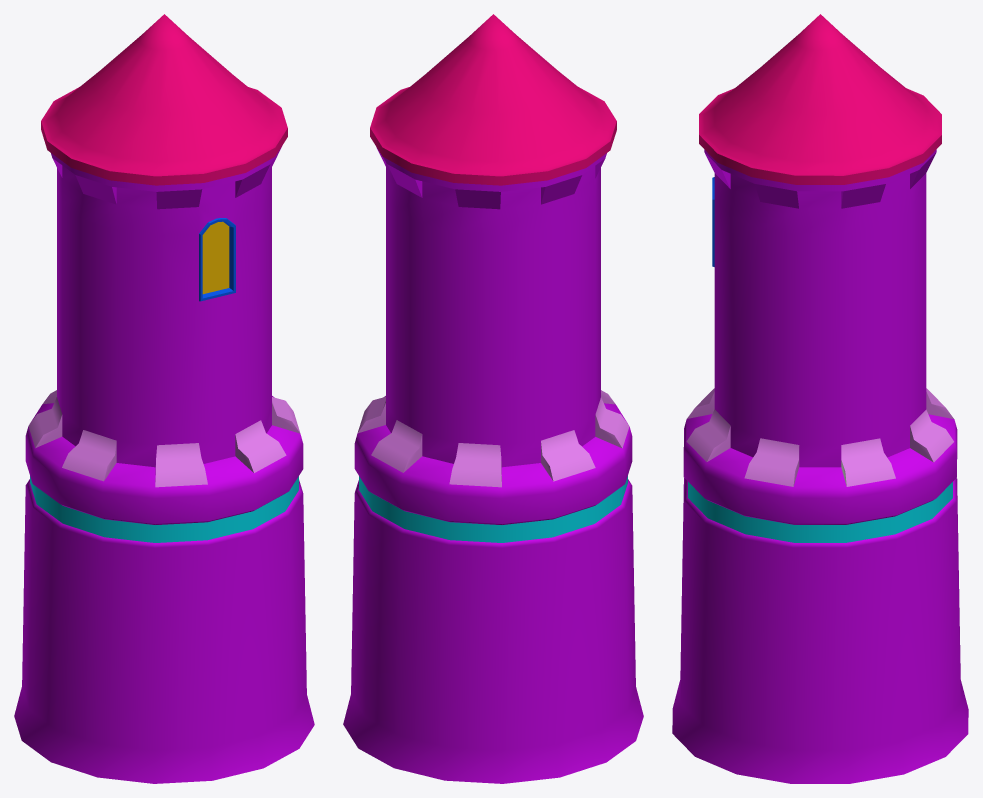
The model's file is TowerB.fbx.
3 views of the same model, side by side, from view 1: azimuth 30°, elevation 25°; view 2: azimuth 150°, elevation 25°; view 3: azimuth 270°, elevation 25° (orthographic).
Parts seen in each view (by area): view 1: pCylinder2; view 2: pCylinder2; view 3: pCylinder2.
Part boxes in pixels (x1=…): pCylinder2: x1=14, y1=14, x2=314, y2=783; pCylinder2: x1=343, y1=14, x2=643, y2=783; pCylinder2: x1=672, y1=14, x2=968, y2=783.
Bounding box in the file's own units: 836 × 2204 × 836.
